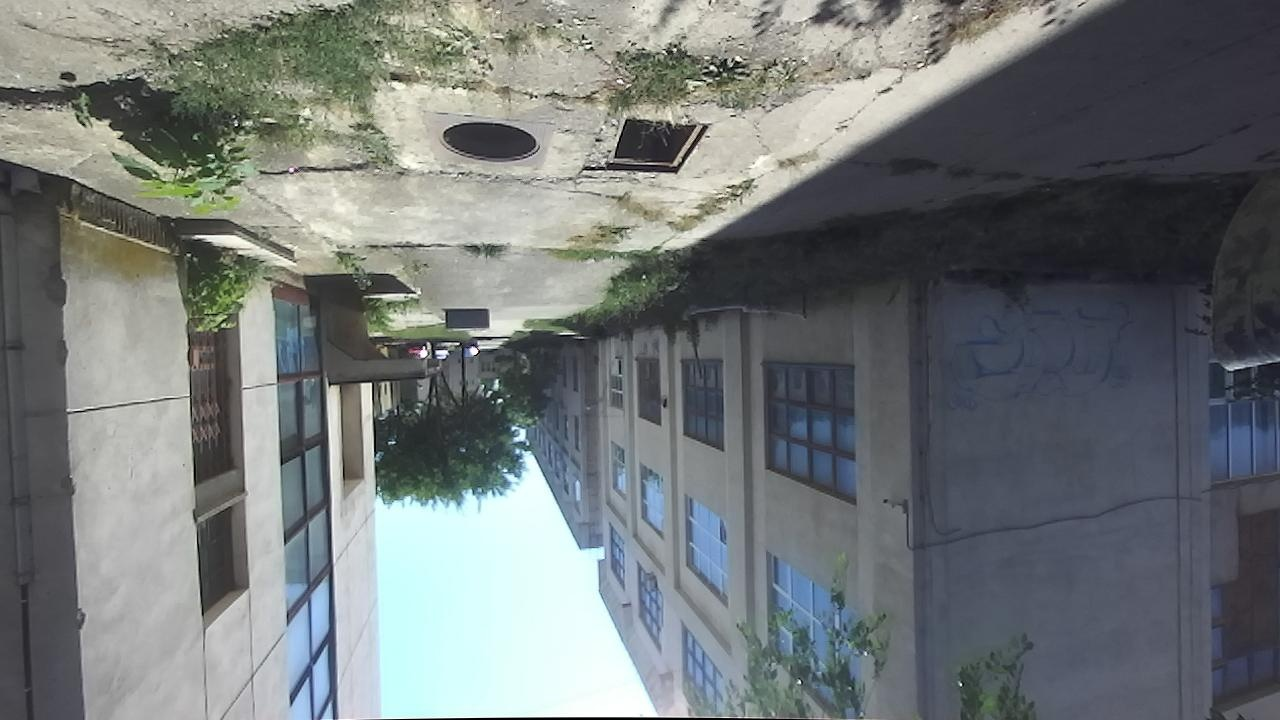drain: (605, 114, 717, 177), (432, 117, 549, 167)
